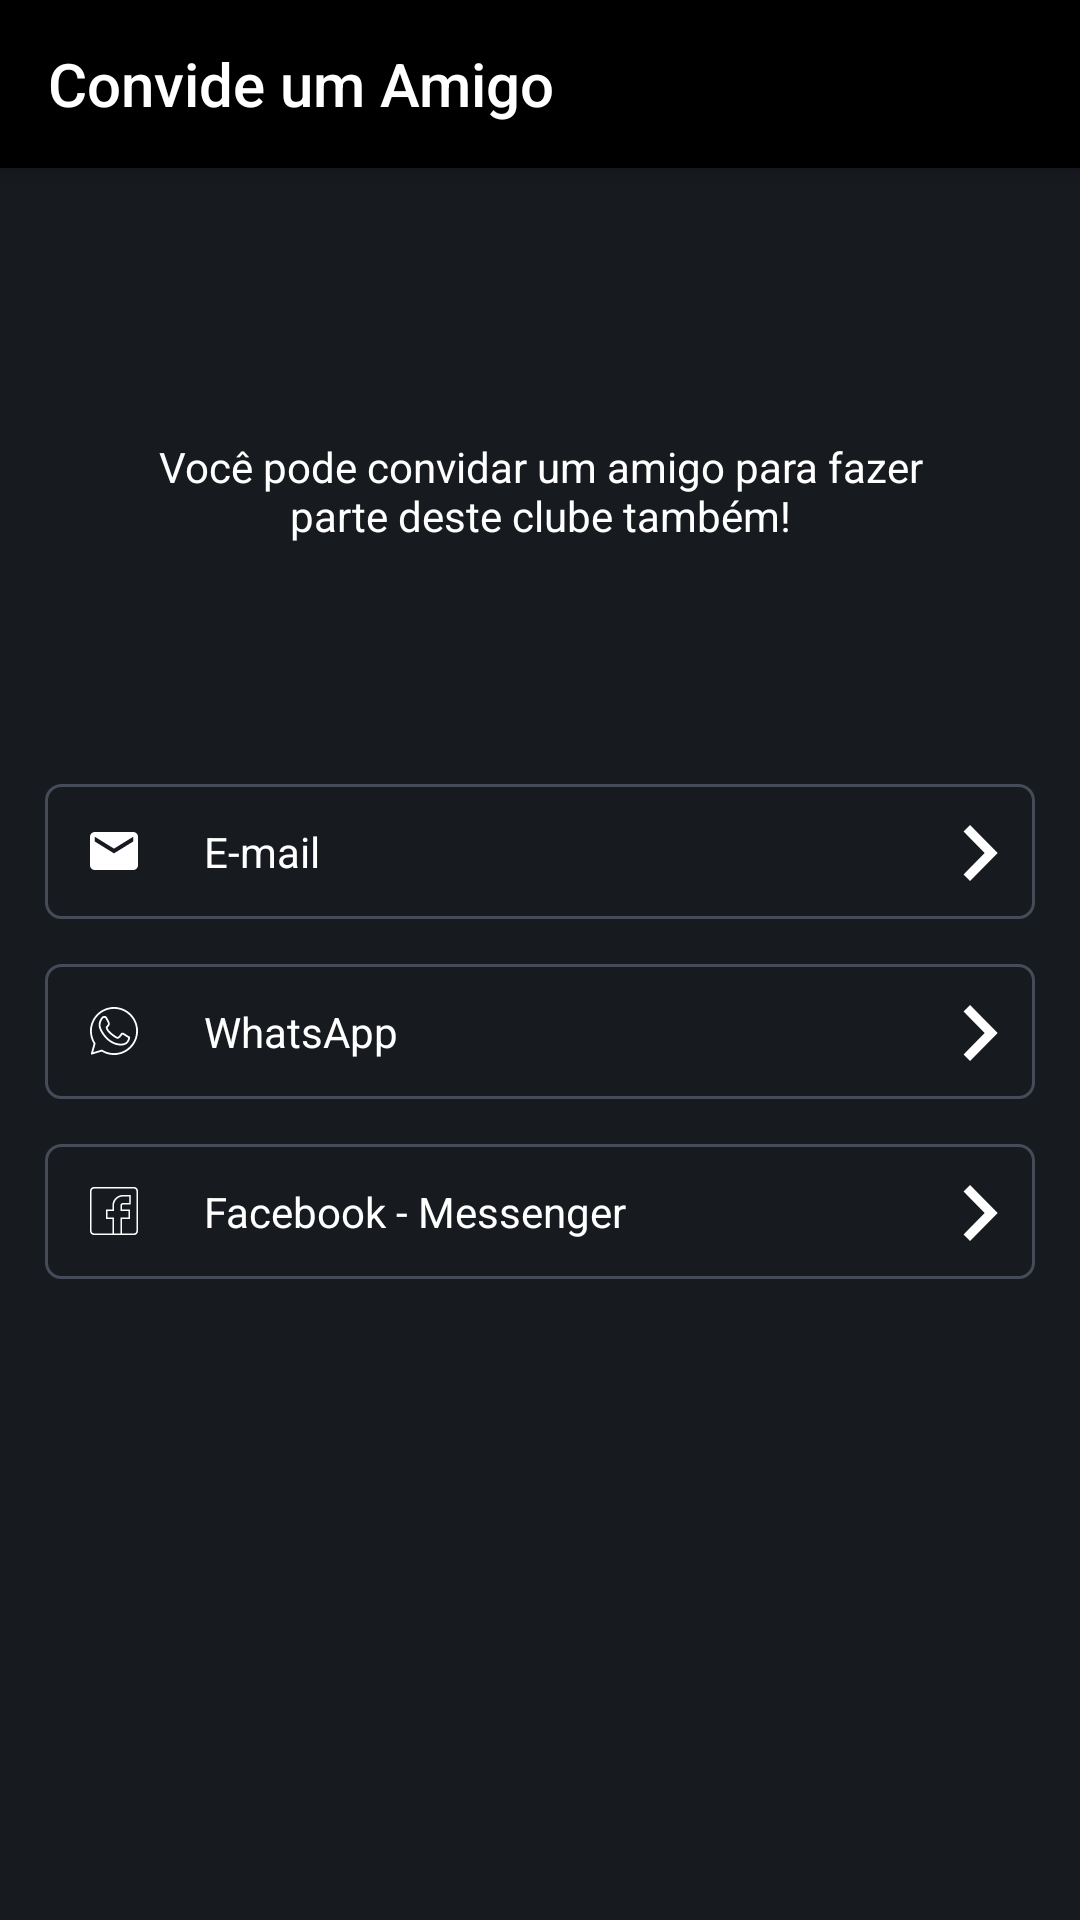

Icons on this 1080x1920 Android screen, each with its box as [x1, y1, x2, y2]:
arrow rigjt: [963, 825, 998, 881], [963, 1005, 998, 1061], [963, 1185, 998, 1241]
